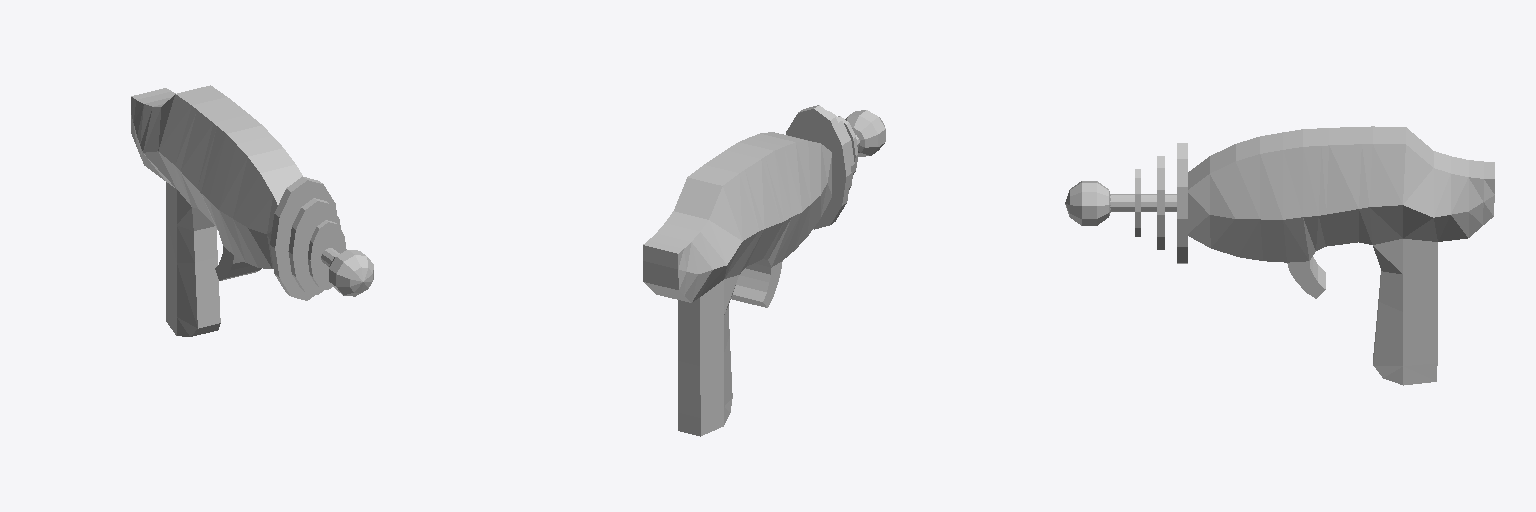
The model's file is blaster001.obj.
3 renders of one model, left to right at view 1: azimuth 30°, elevation 25°; view 2: azimuth 150°, elevation 25°; view 3: azimuth 270°, elevation 25°, orthographic.
Visible parts, largest first — view 1: blaster; view 2: blaster; view 3: blaster.
Boxes of the visible parts, x1,y1,x2,y2 form: blaster: [131, 85, 373, 336]; blaster: [643, 105, 885, 436]; blaster: [1065, 126, 1494, 385].
Bounding box in the file's own units: 4.85 × 15.49 × 24.96.